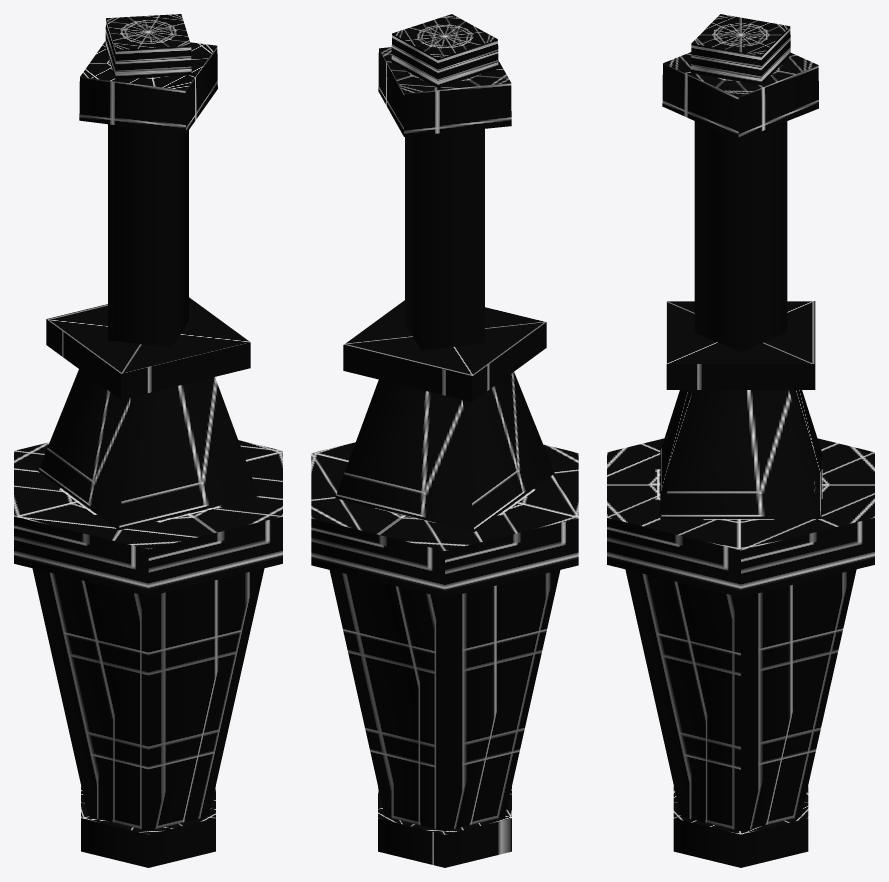
File: steamPinLov.fbx
The picture shows the model from 3 angles, left to right: view 1: azimuth 30°, elevation 25°; view 2: azimuth 150°, elevation 25°; view 3: azimuth 270°, elevation 25°; orthographic projection.
Parts seen in each view (by area): view 1: SteamPinLov; view 2: SteamPinLov; view 3: SteamPinLov.
Part boxes in pixels (x1,y1,x2,y2): SteamPinLov: (14,14,282,867); SteamPinLov: (311,14,578,867); SteamPinLov: (607,14,874,867).
Size of the model in its own units: 2.49 by 7.1 by 2.15.
